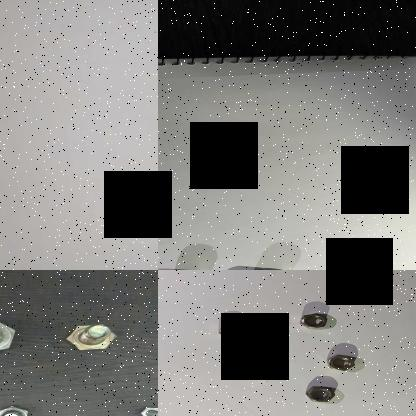Bolts: (68, 318, 124, 353), (0, 314, 20, 358), (0, 400, 35, 416), (129, 400, 158, 416)
NUTS: (299, 383, 337, 403), (322, 352, 360, 372), (295, 310, 329, 328), (247, 355, 279, 373), (216, 320, 247, 338), (248, 263, 291, 270)
